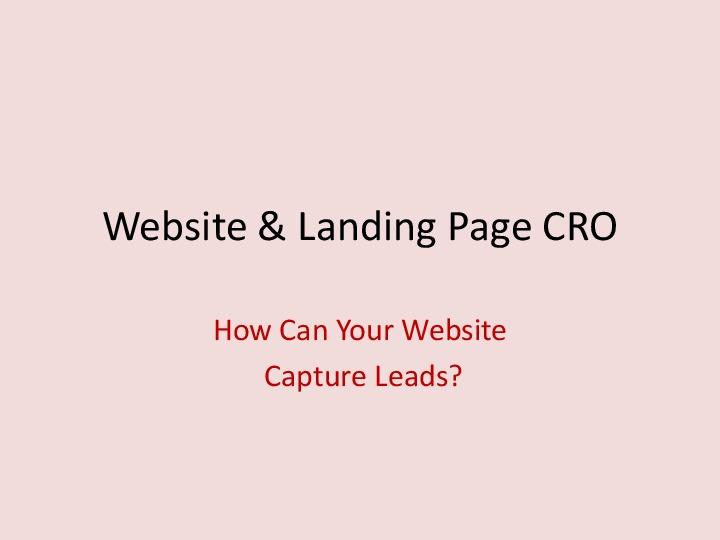paragraph: (89, 181, 627, 268)
subtitle: (210, 306, 529, 404)
